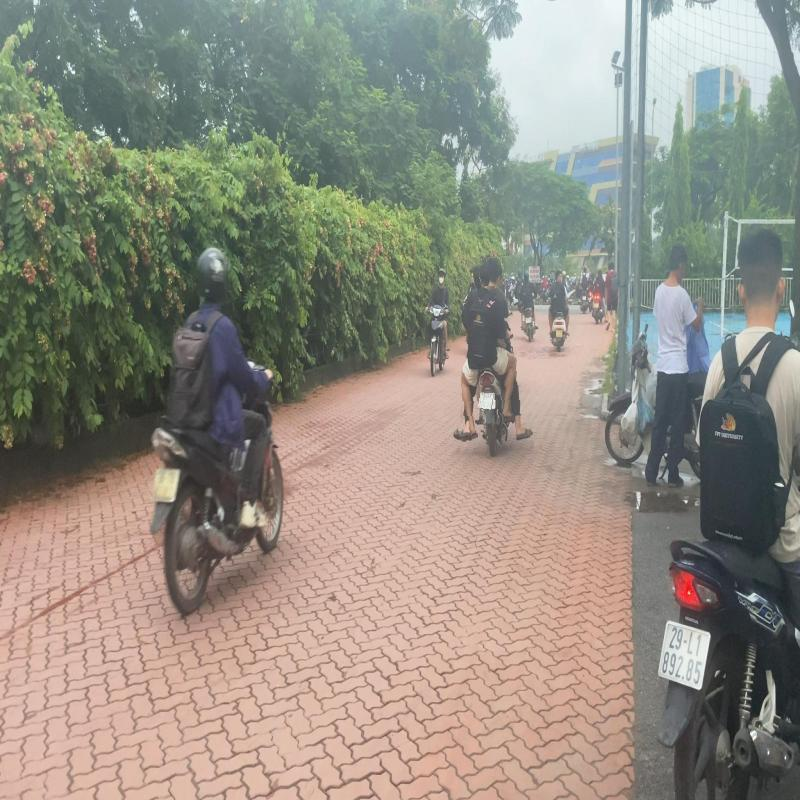licenseplate: (478, 393, 494, 410)
motorcyclist: (450, 256, 532, 458)
nohelmet: (488, 257, 504, 286), (478, 263, 491, 287)
